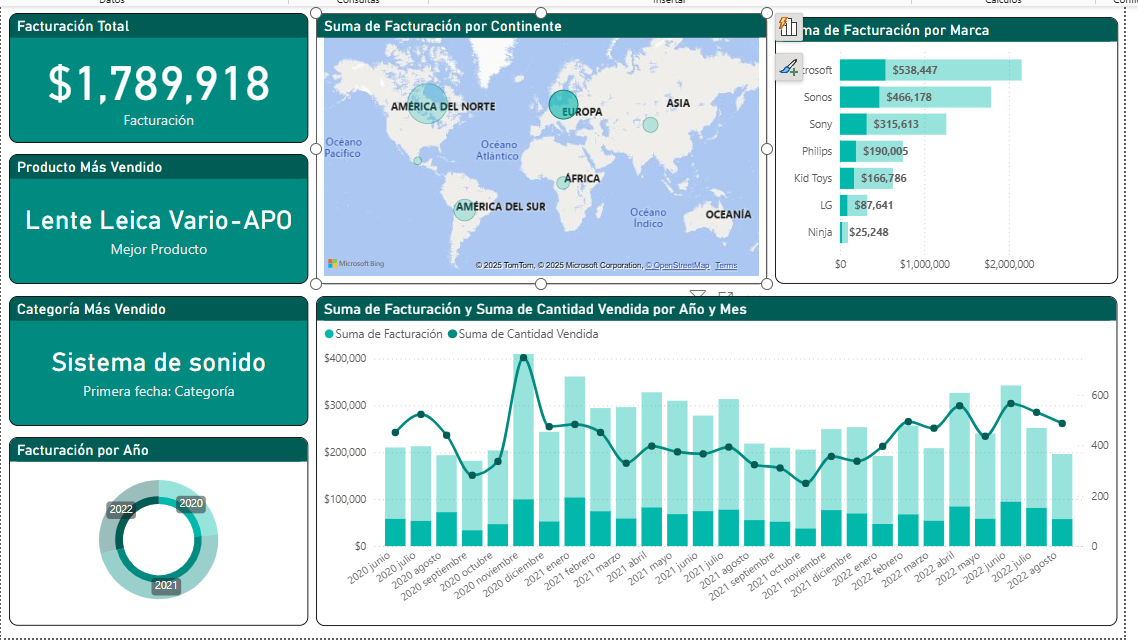

The page's visual inventory and layout, read from the dashboard file:
{"tool":"powerbi","page":{"name":"Página 1","canvas":[1280,720],"ordinal":0},"visuals":[{"type":"card","title":"Facturación Total","fields":{"Values":["Sum(Ventas Tech.Facturación)"]},"box":[8.8,7.5,341.2,147.5],"z":0},{"type":"card","title":"Categoría Más Vendido","fields":{"Values":["Min(Ventas Tech.Categoría)"]},"box":[8.8,330,341.2,147.5],"z":1000},{"type":"map","fields":{"Category":["Ventas Tech.Continente"],"Size":["Sum(Ventas Tech.Facturación)"]},"box":[358.8,7.5,513.8,308.8],"z":2000},{"type":"lineStackedColumnComboChart","fields":{"Category":["Ventas Tech.Fecha De Venta.Variación.Jerarquía de fechas.Año","Ventas Tech.Fecha De Venta.Variación.Jerarquía de fechas.Mes"],"Y":["Sum(Ventas Tech.Facturación)"],"Y2":["Sum(Ventas Tech.Cantidad Vendida)"]},"box":[358.8,330,912.5,376.2],"z":3000},{"type":"clusteredBarChart","fields":{"Category":["Ventas Tech.Marca"],"Y":["Sum(Ventas Tech.Facturación)"]},"box":[881.2,12.5,391.2,303.8],"z":4000},{"type":"card","title":"Producto Más Vendido","fields":{"Values":["Min(Ventas Tech.Producto)"]},"box":[8.8,168.8,341.2,147.5],"z":5000},{"type":"donutChart","title":"Facturación por Año","fields":{"Y":["Sum(Ventas Tech.Facturación)"],"Category":["Ventas Tech.Fecha De Venta.Variación.Jerarquía de fechas.Año"]},"box":[8.8,491.2,341.2,215],"z":6000}]}

Visuals, with their boxes in screenshot pixels (x1, y1, x2, y2):
"Facturación Total" card: crop(5, 10, 304, 139)
"Categoría Más Vendido" card: crop(5, 292, 304, 422)
map - Ventas Tech.Continente x Sum(Ventas Tech.Facturación): crop(312, 10, 762, 280)
lineStackedColumnComboChart - Ventas Tech.Fecha De Venta.Variación.Jerarquía de fechas.Año x Ventas Tech.Fecha De Venta.Variación.Jerarquía de fechas.Mes: crop(312, 292, 1112, 622)
clusteredBarChart - Ventas Tech.Marca x Sum(Ventas Tech.Facturación): crop(770, 14, 1113, 280)
"Producto Más Vendido" card: crop(5, 151, 304, 280)
"Facturación por Año" donutChart: crop(5, 434, 304, 622)
